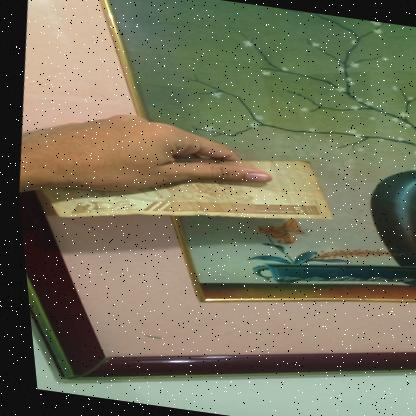five-back-vef: (28, 122, 339, 254)
